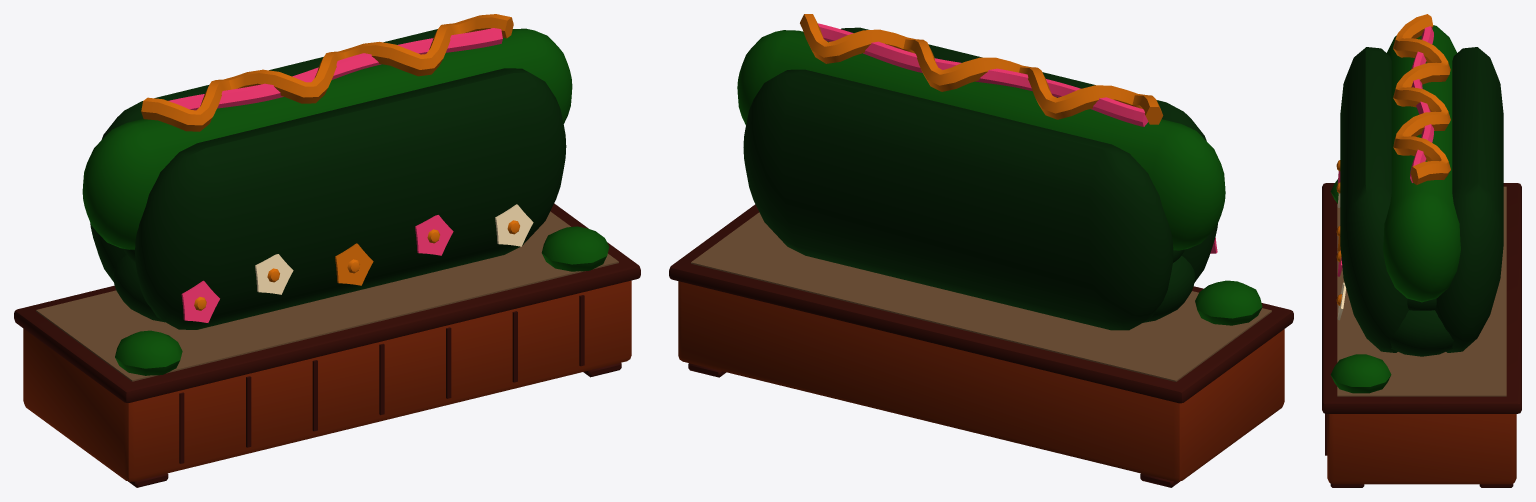
The model's file is HotDogTopiary.obj.
The picture shows the model from 3 angles, left to right: view 1: azimuth 30°, elevation 25°; view 2: azimuth 150°, elevation 25°; view 3: azimuth 270°, elevation 25°; orthographic projection. The views are drawn at different scales.
Visible parts, largest first — view 1: HotDogTopiary; view 2: HotDogTopiary; view 3: HotDogTopiary.
Boxes of the visible parts, <box> form: HotDogTopiary: <box>14,14,640,487</box>; HotDogTopiary: <box>669,14,1293,487</box>; HotDogTopiary: <box>1322,14,1521,487</box>.
Bounding box in the file's own units: 7.75 × 4.78 × 2.95.
